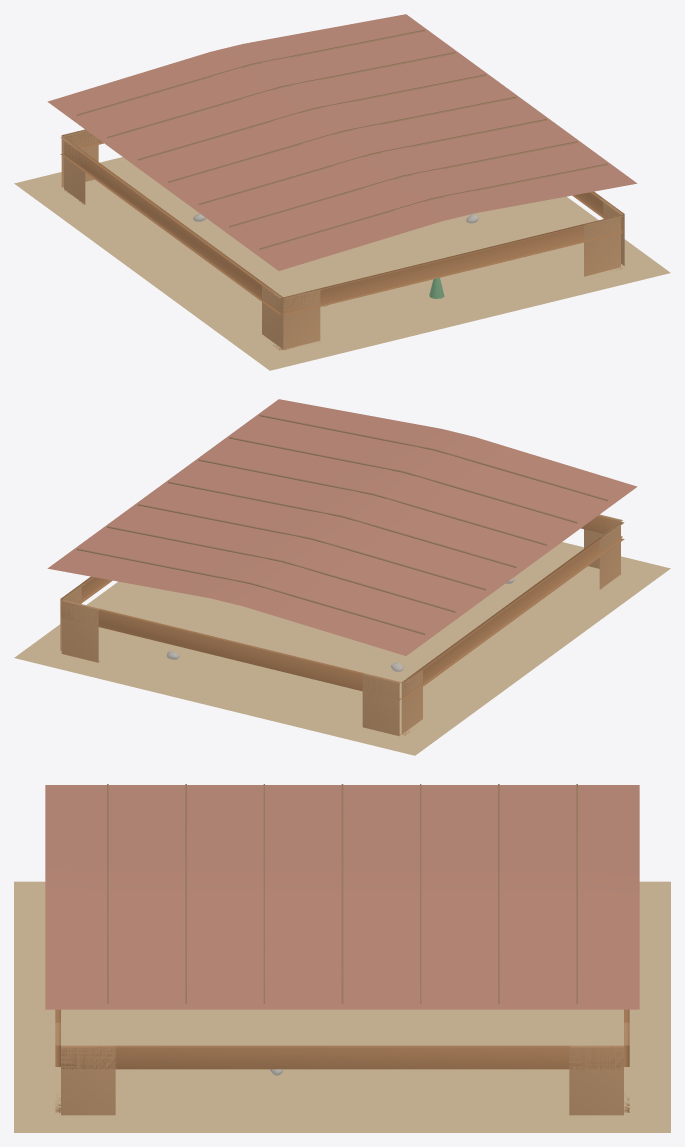
Rendered from env.glb.
The picture shows the model from 3 angles, top to bottom: view 1: azimuth 30°, elevation 25°; view 2: azimuth 150°, elevation 25°; view 3: azimuth 270°, elevation 25°; orthographic projection. The views are drawn at different scales.
Visible parts, largest first — view 1: dojo_hall, dojo_floor; view 2: dojo_hall, dojo_floor; view 3: dojo_hall, dojo_floor.
Part boxes in pixels (<box>): dojo_hall: <box>47,14,637,350</box>; dojo_floor: <box>14,157,670,370</box>; dojo_hall: <box>47,399,637,736</box>; dojo_floor: <box>14,542,670,755</box>; dojo_hall: <box>45,784,639,1115</box>; dojo_floor: <box>14,881,670,1132</box>.
Size of the model in its own units: 76 by 17.94 by 84.
